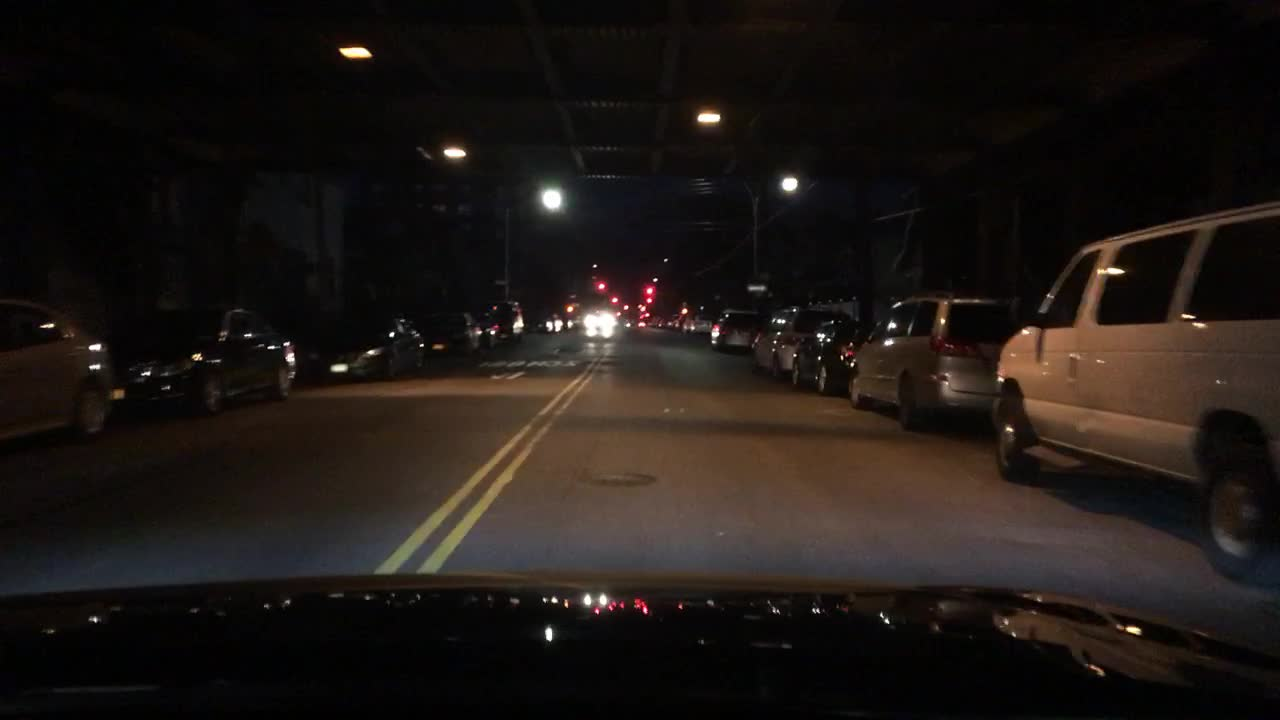car: (985, 198, 1278, 588), (843, 292, 1028, 432), (106, 304, 299, 422), (1, 296, 116, 443), (295, 314, 427, 383), (786, 311, 872, 395), (748, 302, 831, 378), (409, 307, 487, 366), (709, 308, 764, 355), (478, 299, 528, 349), (678, 313, 713, 338), (582, 312, 617, 329), (523, 316, 555, 334), (545, 314, 575, 332), (659, 312, 680, 330), (622, 316, 643, 330), (647, 313, 664, 328)
traffic light: (591, 275, 610, 295), (642, 282, 658, 298)
